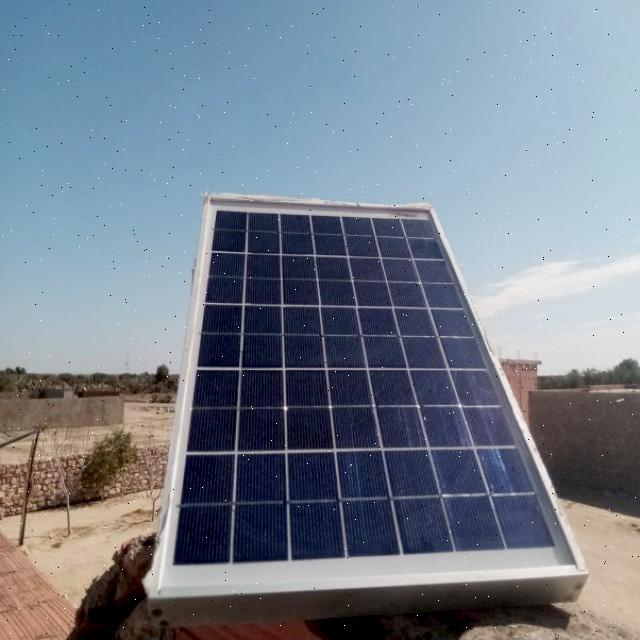Normal Solar Panel: (153, 198, 585, 594)
